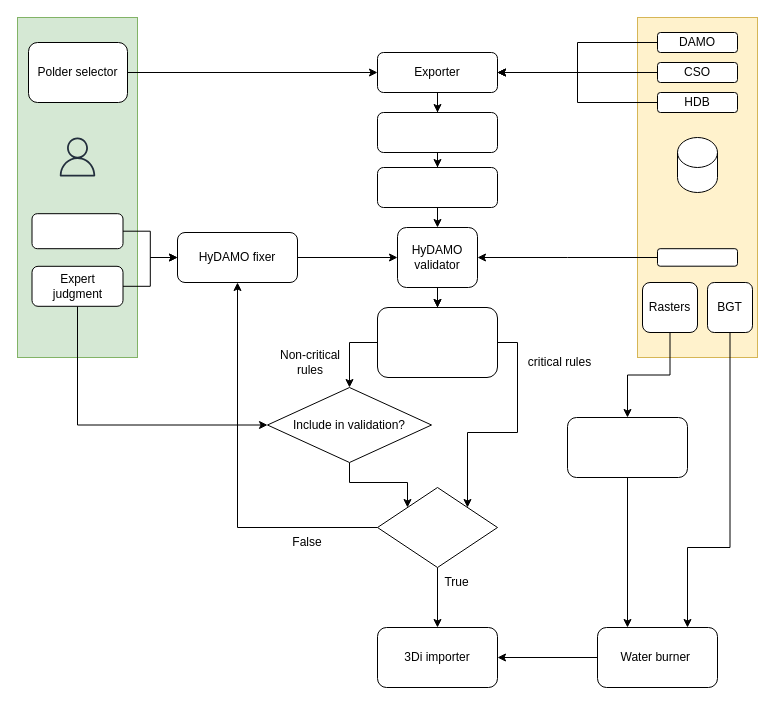
Image size: 775x705. Some labels were removed from this diagram. Each missing label, with the centre of its shape:
Aannames: (x=77, y=231)
AHN: (x=697, y=257)
All rules OK?: (x=437, y=527)
DAMOToHyDAMO converter: (x=437, y=187)
HyDAMO validate-interpretator: (x=437, y=342)
Raster clipper: (x=627, y=447)
ToDAMO converter: (x=437, y=132)
